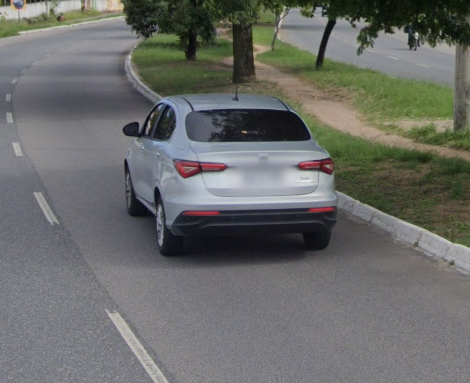car: (115, 73, 342, 261)
